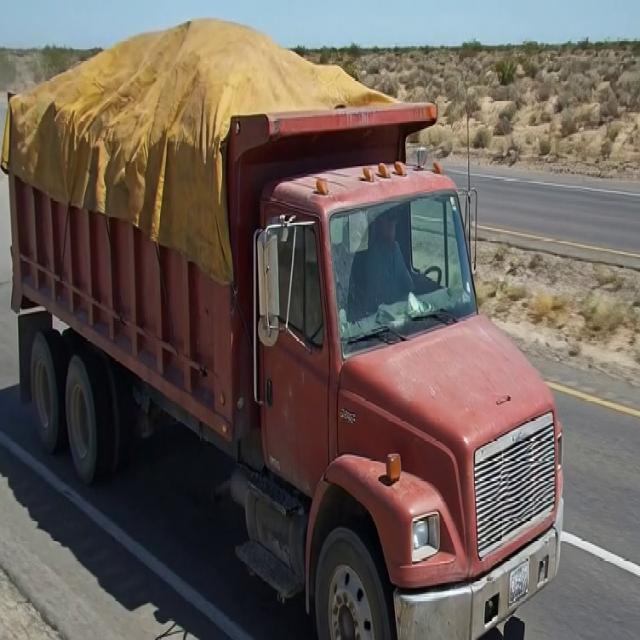Box: (3, 42, 456, 188)
Truck: (4, 44, 579, 630)
